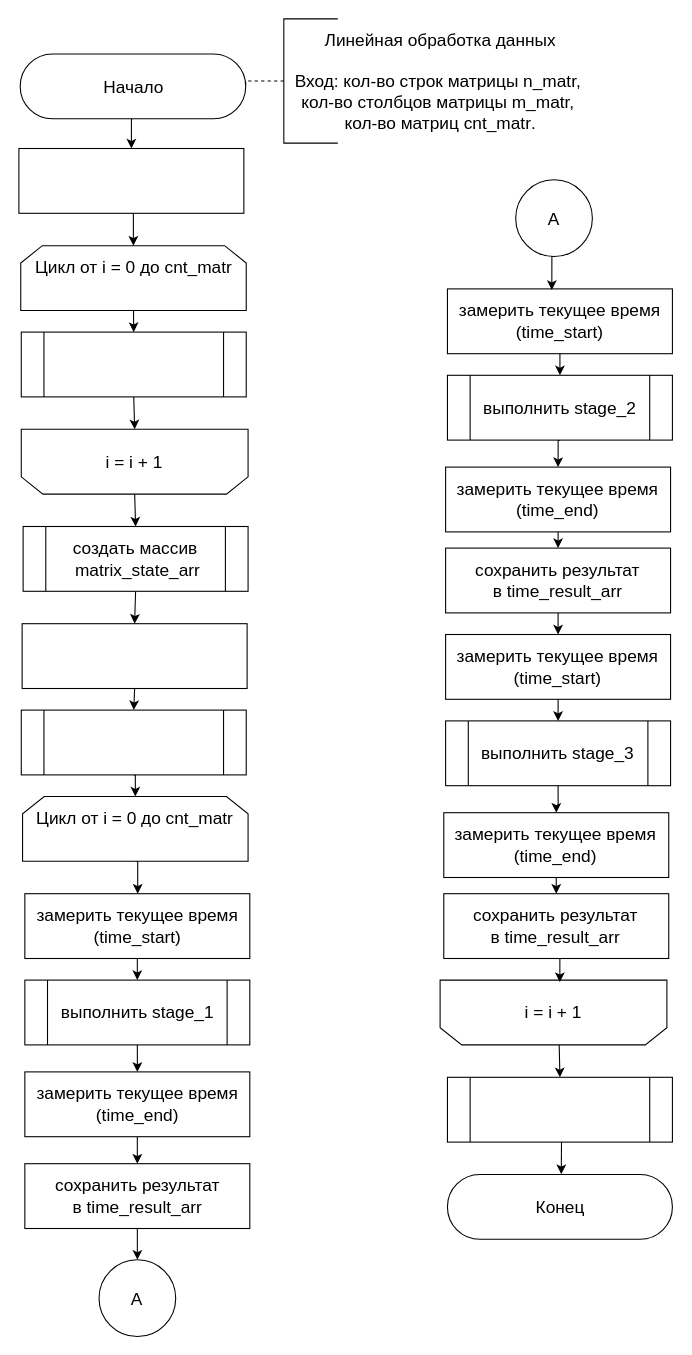
Image size: 692x1355. Some labels were removed from this diagram. Each missing label, with the centre of its shape:
"замерить текущее время (time_begin)" belongs at point (134, 655).
"напечатать результат в правильной форме" belongs at point (559, 1109).
"Сгенерировать матрицу и добавить её в очередь q1" belongs at point (133, 364).
"создать массив time_result_arr" belongs at point (133, 742).
"создать очереди этапов обработки q1, q2, q3" belongs at point (131, 180).
